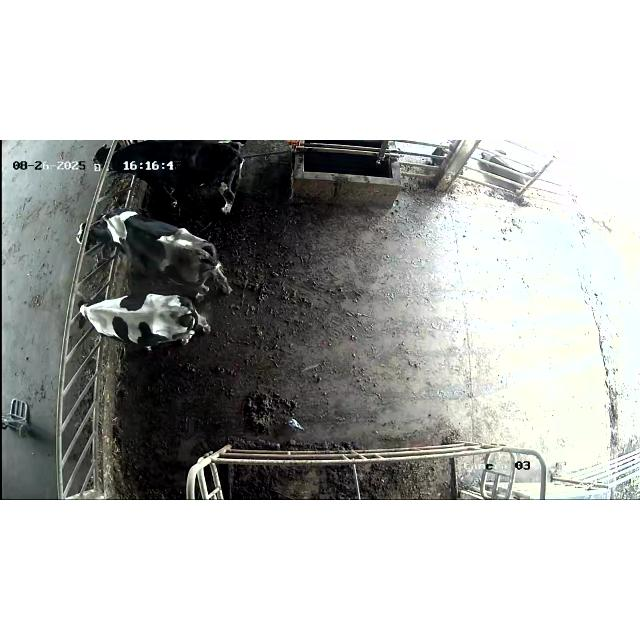eat: (48, 290, 140, 336), (68, 207, 148, 257), (78, 142, 160, 180)
